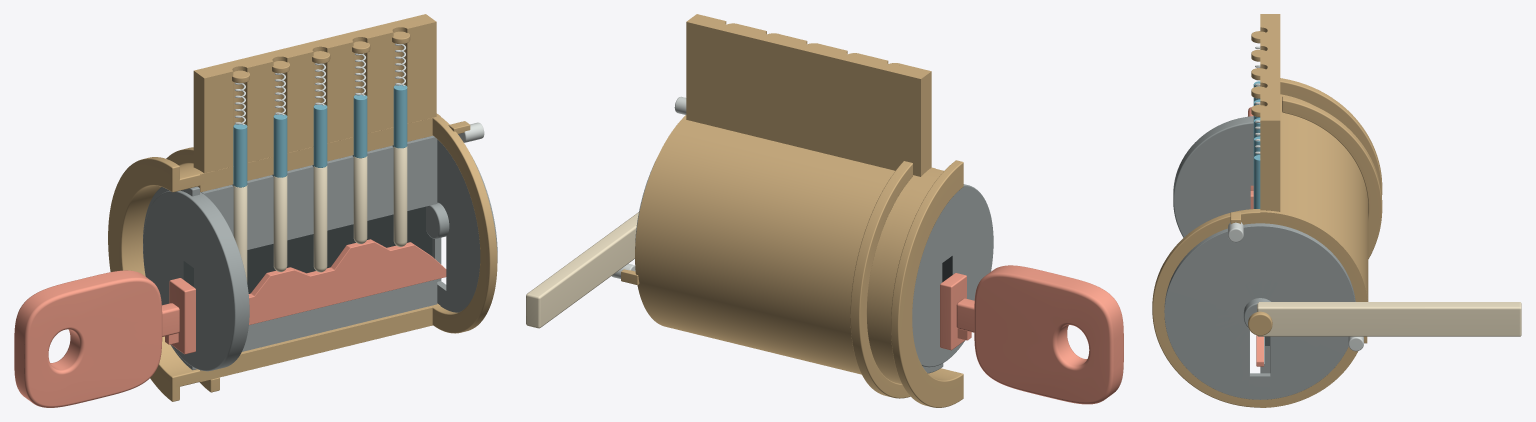
The model's file is pin.glb.
3 renders of one model, left to right at view 1: azimuth 30°, elevation 25°; view 2: azimuth 150°, elevation 25°; view 3: azimuth 270°, elevation 25°, orthographic. The views are drawn at different scales.
Visible parts, largest first — view 1: Pin chamber housing / fixed bible (inspection), Pin plug / sectioned (inspection), Pin key bow (inspection), Pin plug nose / shoulder seat (inspection), Pin key / five coded cuts (inspection), Pin cylinder housing / sectioned (inspection), Rear axial retaining washer (inspection), Fixed rear housing shoulder (inspection), Cylinder front mounting flange (inspection), Housing front neck cutaway (inspection), Key pin 3 / coded length (inspection), Pin key shoulder (inspection) (+12 smaller); view 2: Pin cylinder housing / sectioned (inspection), Pin chamber housing / fixed bible (inspection), Pin key bow (inspection), Pin plug nose / shoulder seat (inspection), Cylinder front mounting flange (inspection), Quarter-turn cabinet cam (inspection), Rear clamping ring (inspection), Housing front neck cutaway (inspection), Pin key shoulder (inspection), Pin key neck (inspection); view 3: Rear axial retaining washer (inspection), Pin cylinder housing / sectioned (inspection), Quarter-turn cabinet cam (inspection), Pin plug nose / shoulder seat (inspection), Fixed rear housing shoulder (inspection), Pin chamber housing / fixed bible (inspection), Rear clamping ring (inspection), Cylinder front mounting flange (inspection), Cam retaining screw (inspection), Driver 5 / fixed radial chamber (inspection).
Part boxes in pixels (x1,y1,x2,y2): Pin chamber housing / fixed bible (inspection): [193, 14, 436, 173]; Pin plug / sectioned (inspection): [201, 135, 437, 351]; Pin key bow (inspection): [14, 270, 162, 407]; Pin plug nose / shoulder seat (inspection): [143, 190, 249, 371]; Pin key / five coded cuts (inspection): [165, 239, 446, 344]; Pin cylinder housing / sectioned (inspection): [179, 113, 440, 381]; Rear axial retaining washer (inspection): [432, 139, 497, 312]; Fixed rear housing shoulder (inspection): [431, 116, 497, 333]; Cylinder front mounting flange (inspection): [108, 157, 179, 401]; Housing front neck cutaway (inspection): [124, 165, 204, 387]; Key pin 3 / coded length (inspection): [313, 166, 327, 272]; Pin key shoulder (inspection): [169, 278, 195, 354]; Pin cylinder housing / sectioned (inspection): [635, 115, 935, 384]; Pin chamber housing / fixed bible (inspection): [686, 14, 931, 176]; Pin key bow (inspection): [974, 265, 1123, 404]; Pin plug nose / shoulder seat (inspection): [912, 184, 993, 367]; Cylinder front mounting flange (inspection): [891, 160, 963, 407]; Quarter-turn cabinet cam (inspection): [526, 212, 638, 328]; Rear clamping ring (inspection): [850, 161, 912, 398]; Housing front neck cutaway (inspection): [874, 168, 960, 383]; Pin key shoulder (inspection): [940, 273, 966, 350]; Pin key neck (inspection): [956, 298, 974, 332]; Rear axial retaining washer (inspection): [1164, 223, 1355, 399]; Pin cylinder housing / sectioned (inspection): [1260, 103, 1368, 407]; Quarter-turn cabinet cam (inspection): [1257, 302, 1521, 336]; Pin plug nose / shoulder seat (inspection): [1173, 116, 1253, 237]; Fixed rear housing shoulder (inspection): [1152, 209, 1366, 407]; Pin chamber housing / fixed bible (inspection): [1260, 14, 1280, 211]; Rear clamping ring (inspection): [1282, 96, 1382, 258]; Cylinder front mounting flange (inspection): [1280, 78, 1382, 194]; Cam retaining screw (inspection): [1248, 311, 1272, 335]; Driver 5 / fixed radial chamber (inspection): [1253, 155, 1260, 208].
Size of the model in its own units: 5.67 by 3.77 by 4.24.
